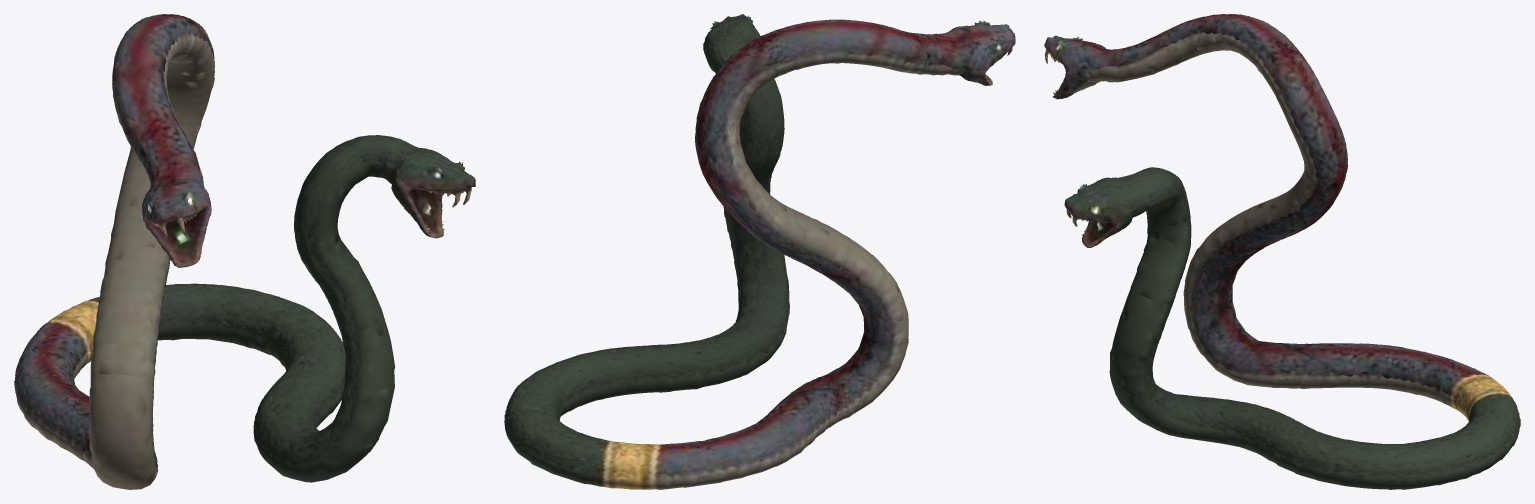
File: MZ4250 - Amphisbaena.glb
3 views of the same model, side by side, from view 1: azimuth 30°, elevation 25°; view 2: azimuth 150°, elevation 25°; view 3: azimuth 270°, elevation 25° (orthographic). The views are drawn at different scales.
Visible parts, largest first — view 1: ORGANIC BASE SPHERE.001; view 2: ORGANIC BASE SPHERE.001; view 3: ORGANIC BASE SPHERE.001.
Part boxes in pixels (left/top/right/bottom): ORGANIC BASE SPHERE.001: left=14, top=14, right=475, bottom=489; ORGANIC BASE SPHERE.001: left=504, top=14, right=1015, bottom=489; ORGANIC BASE SPHERE.001: left=1044, top=14, right=1520, bottom=489.
Size of the model in its own units: 68.97 by 79.8 by 92.75.
Materials: 1 (1 with a texture image).
